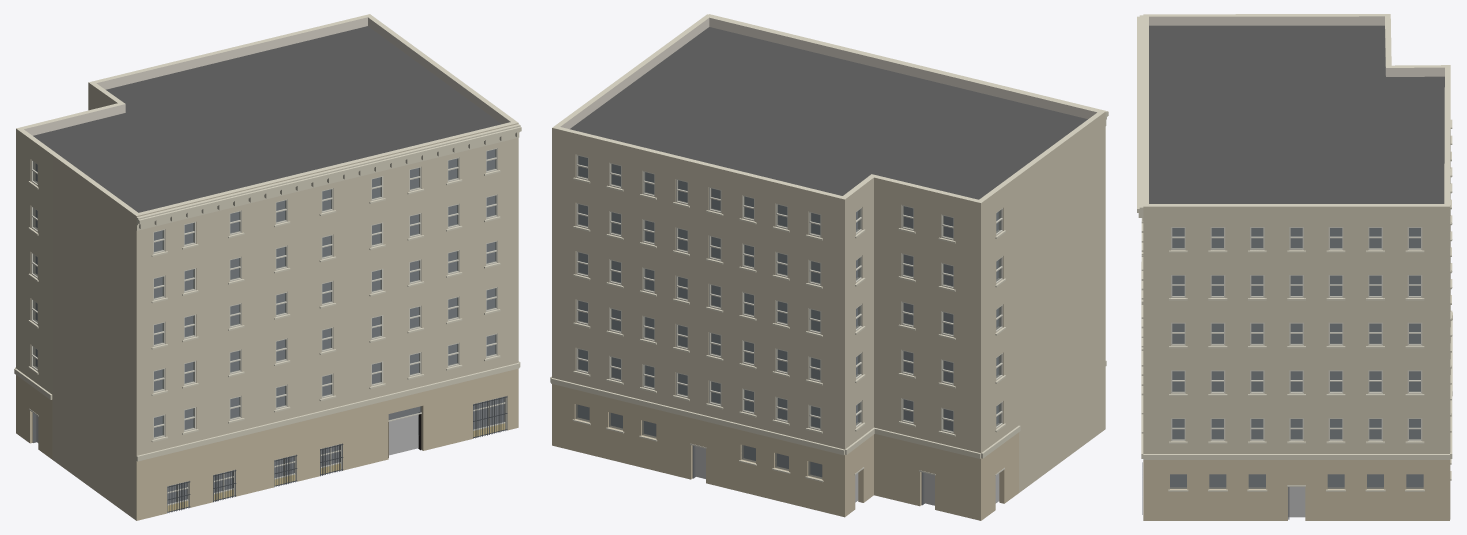
File: exterior.glb
3 renders of one model, left to right at view 1: azimuth 30°, elevation 25°; view 2: azimuth 150°, elevation 25°; view 3: azimuth 270°, elevation 25°, orthographic. The views are drawn at different scales.
Visible parts, largest first — view 1: shell, roof, glazing, trim, shadow-proxy, frames, storefront; view 2: shell, roof, glazing, shadow-proxy, frames, trim; view 3: shell, roof, glazing, shadow-proxy, trim, frames.
Boxes of the visible parts, bbox=[...] form: shell: bbox=[16, 14, 518, 520]; roof: bbox=[33, 26, 501, 212]; glazing: bbox=[33, 149, 504, 503]; trim: bbox=[14, 124, 521, 461]; shadow-proxy: bbox=[36, 149, 503, 503]; frames: bbox=[31, 148, 497, 439]; storefront: bbox=[29, 396, 507, 513]; shell: bbox=[552, 14, 1105, 520]; roof: bbox=[570, 27, 1087, 199]; glazing: bbox=[575, 156, 1000, 478]; shadow-proxy: bbox=[578, 156, 999, 505]; frames: bbox=[576, 154, 1002, 433]; trim: bbox=[550, 14, 1108, 482]; shell: bbox=[1143, 14, 1450, 520]; roof: bbox=[1149, 25, 1444, 203]; glazing: bbox=[1170, 228, 1423, 488]; shadow-proxy: bbox=[1170, 228, 1423, 517]; trim: bbox=[1137, 15, 1452, 491]; frames: bbox=[1171, 227, 1422, 441].
Size of the model in its own units: 26.73 by 20.16 by 18.35.
